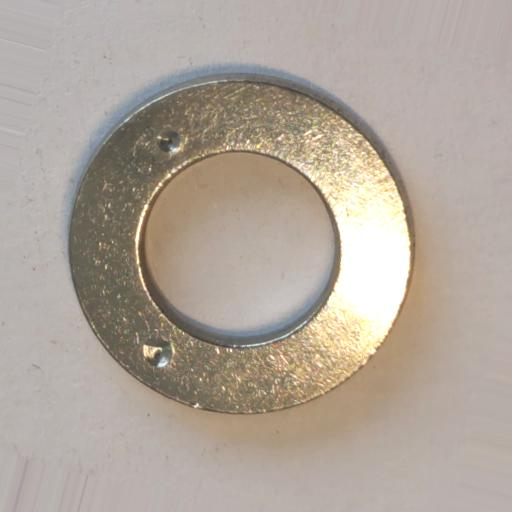circular_cavity: (141, 337, 173, 368), (159, 130, 181, 153)
